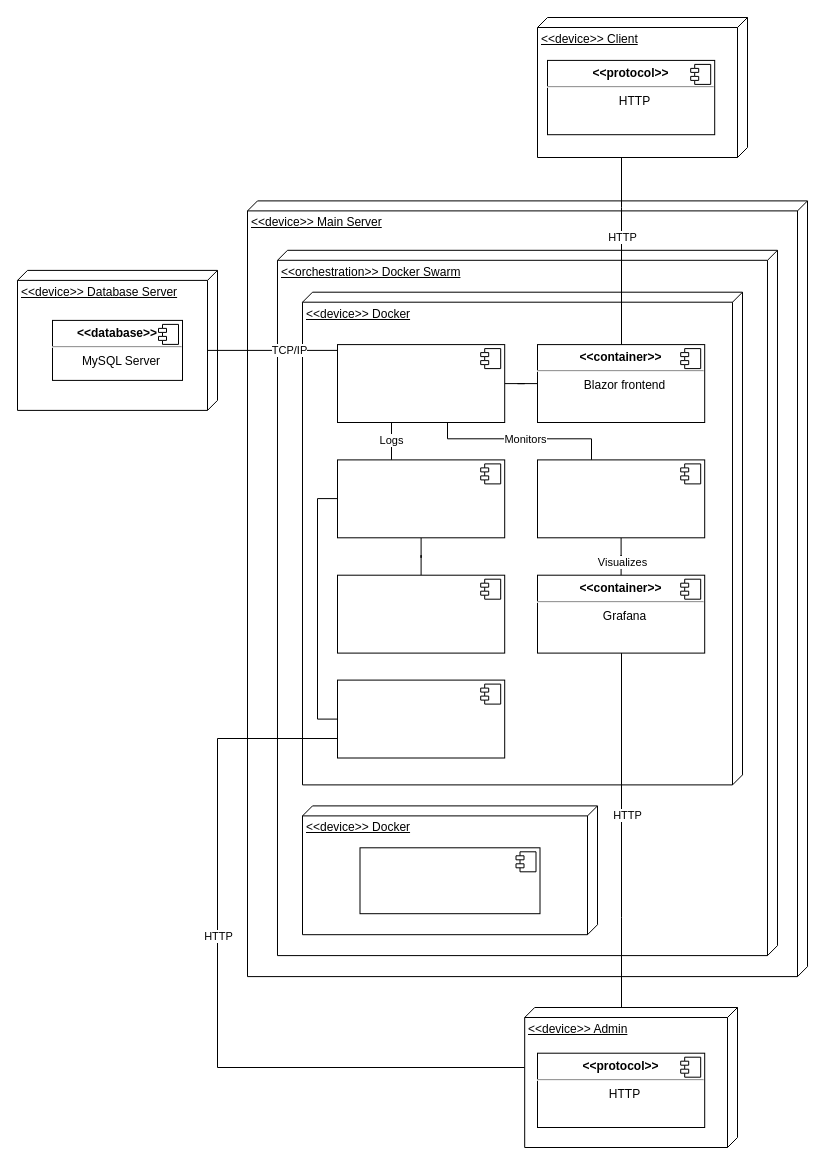
The diagram is 825 pixels wide and 1165 high, and some of its shapes have lost their labels. Here are the shapes that lost their labels. From the top down, the centre of each, then its label:
At [420,383]: "<< container >> API".
At [420,498]: "<< container >> Nginx".
At [620,498]: "<< container >> Prometheus".
At [420,613]: "<< container >> Elasticsearch".
At [420,718]: "<< container >> Kibana".
At [449,880]: "<<replica>> Replica of above device".
